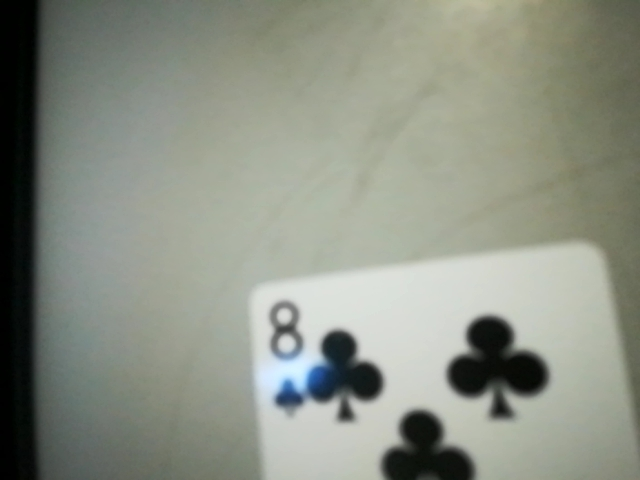mh 8: (251, 291, 314, 409)
